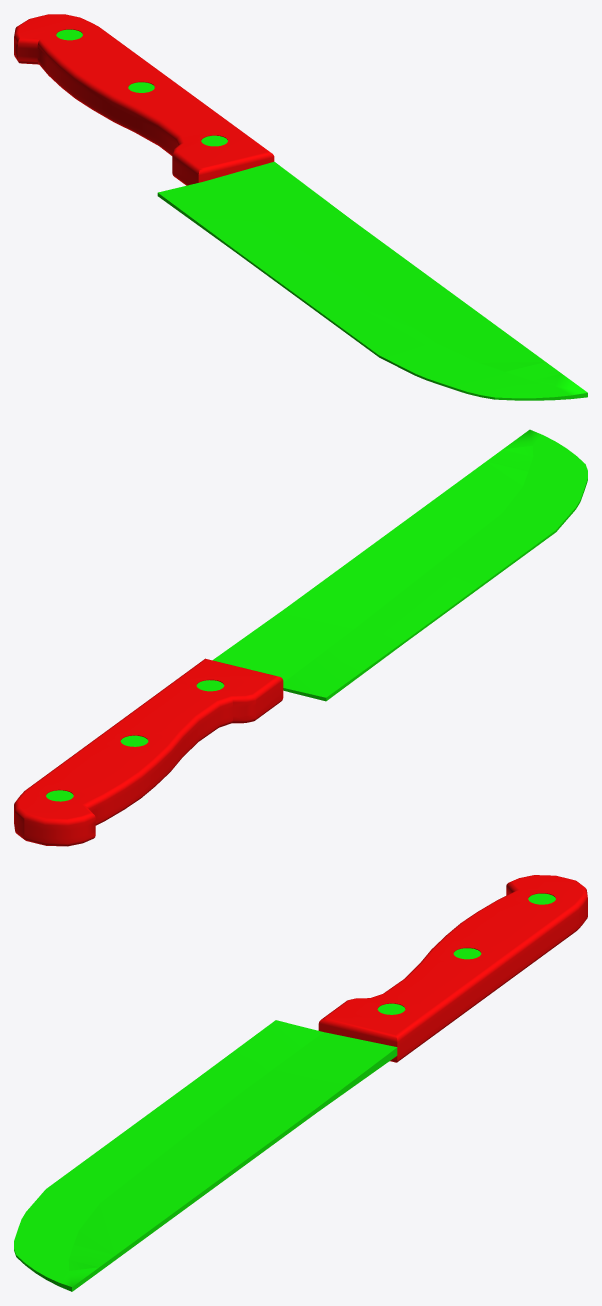
The model's file is ButcherKnife.fbx.
3 renders of one model, top to bottom at view 1: azimuth 30°, elevation 25°; view 2: azimuth 150°, elevation 25°; view 3: azimuth 330°, elevation 25°, orthographic. The views are drawn at different scales.
Visible parts, largest first — view 1: ButcherKnife; view 2: ButcherKnife; view 3: ButcherKnife.
Boxes of the visible parts, <box> form: ButcherKnife: <box>14,14,587,400</box>; ButcherKnife: <box>14,429,587,846</box>; ButcherKnife: <box>14,875,587,1291</box>.
Size of the model in its own units: 0.1656 by 0.0352 by 1.26.
